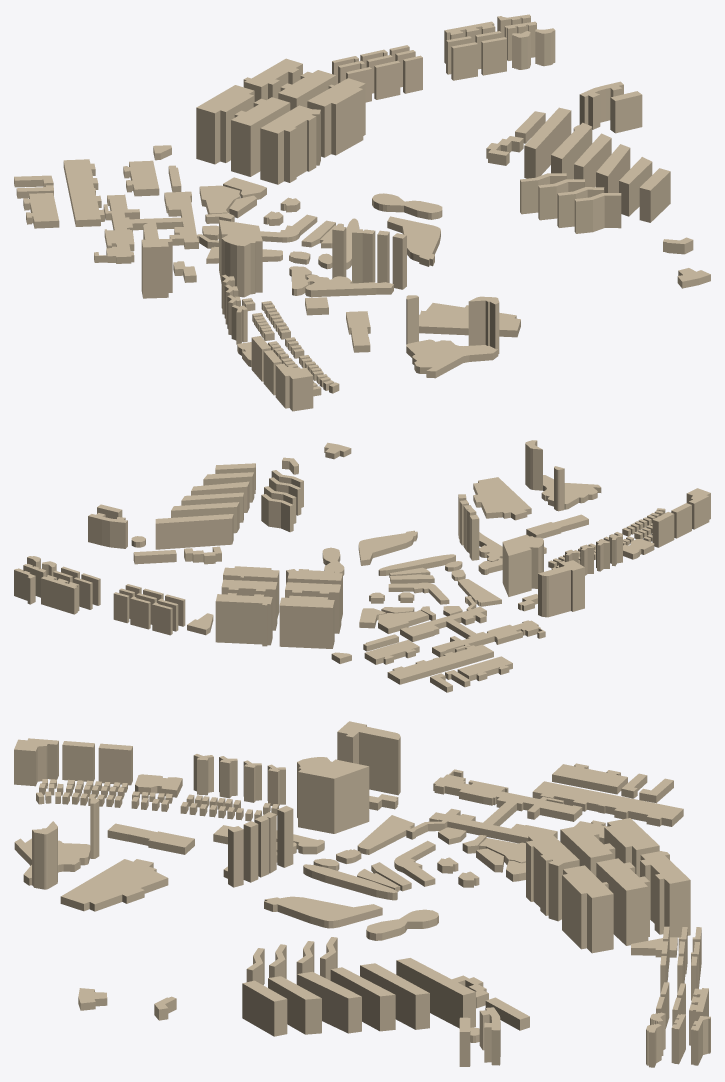
File: -12_-6-estimated-coarse.glb
3 renders of one model, top to bottom at view 1: azimuth 30°, elevation 25°; view 2: azimuth 150°, elevation 25°; view 3: azimuth 270°, elevation 25°, orthographic. The views are drawn at different scales.
Size of the model in its own units: 1035 by 90 by 1027.
